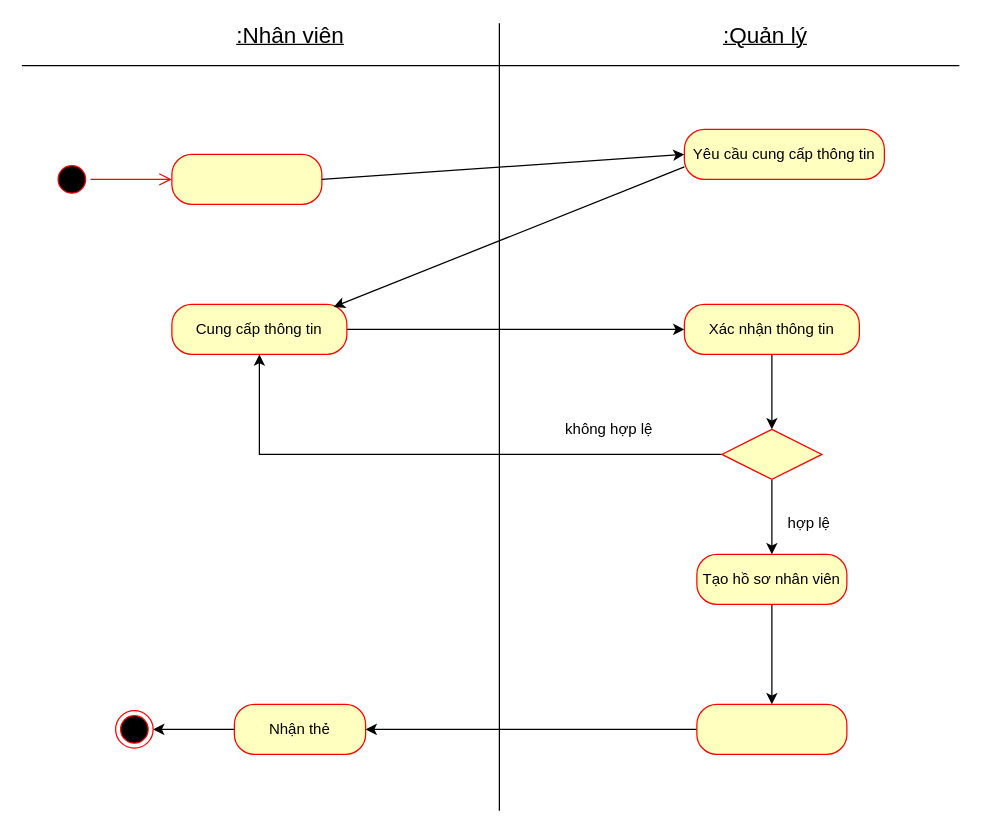
Image size: 981x834. Some labels were removed from this diagram. The shapes that lost their labels are listed below. From the top down, each one's centre as x and y in pixels, then its label:
[246,178]: Yêu cầu làm hồ sơ
[771,728]: Cấp thẻ nhân viên
